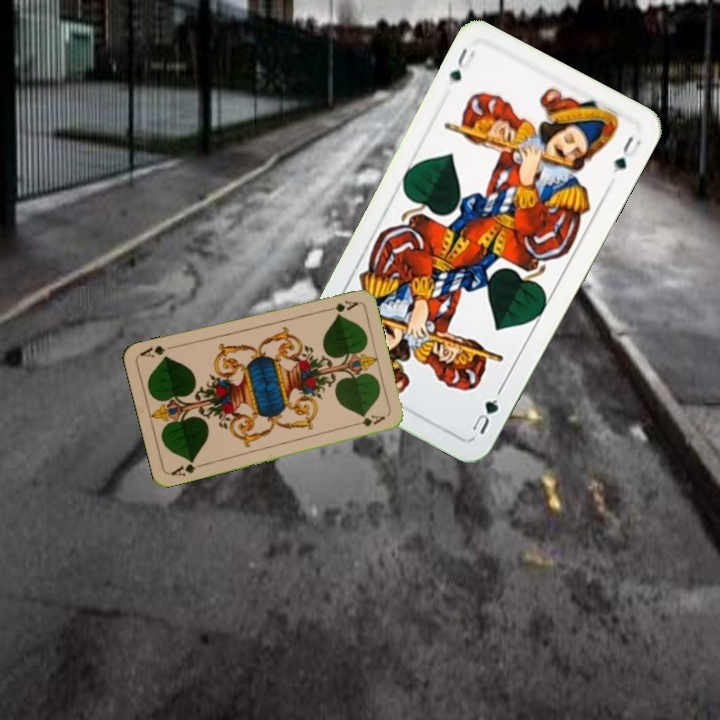GA: (167, 456, 206, 479), (320, 296, 360, 315)
GU: (467, 392, 502, 437), (444, 43, 478, 84)
